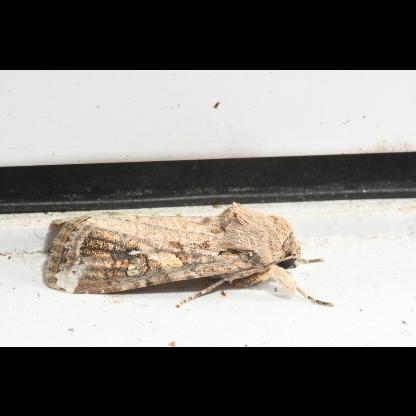Fall Armyworm Moth: (43, 200, 336, 310)
